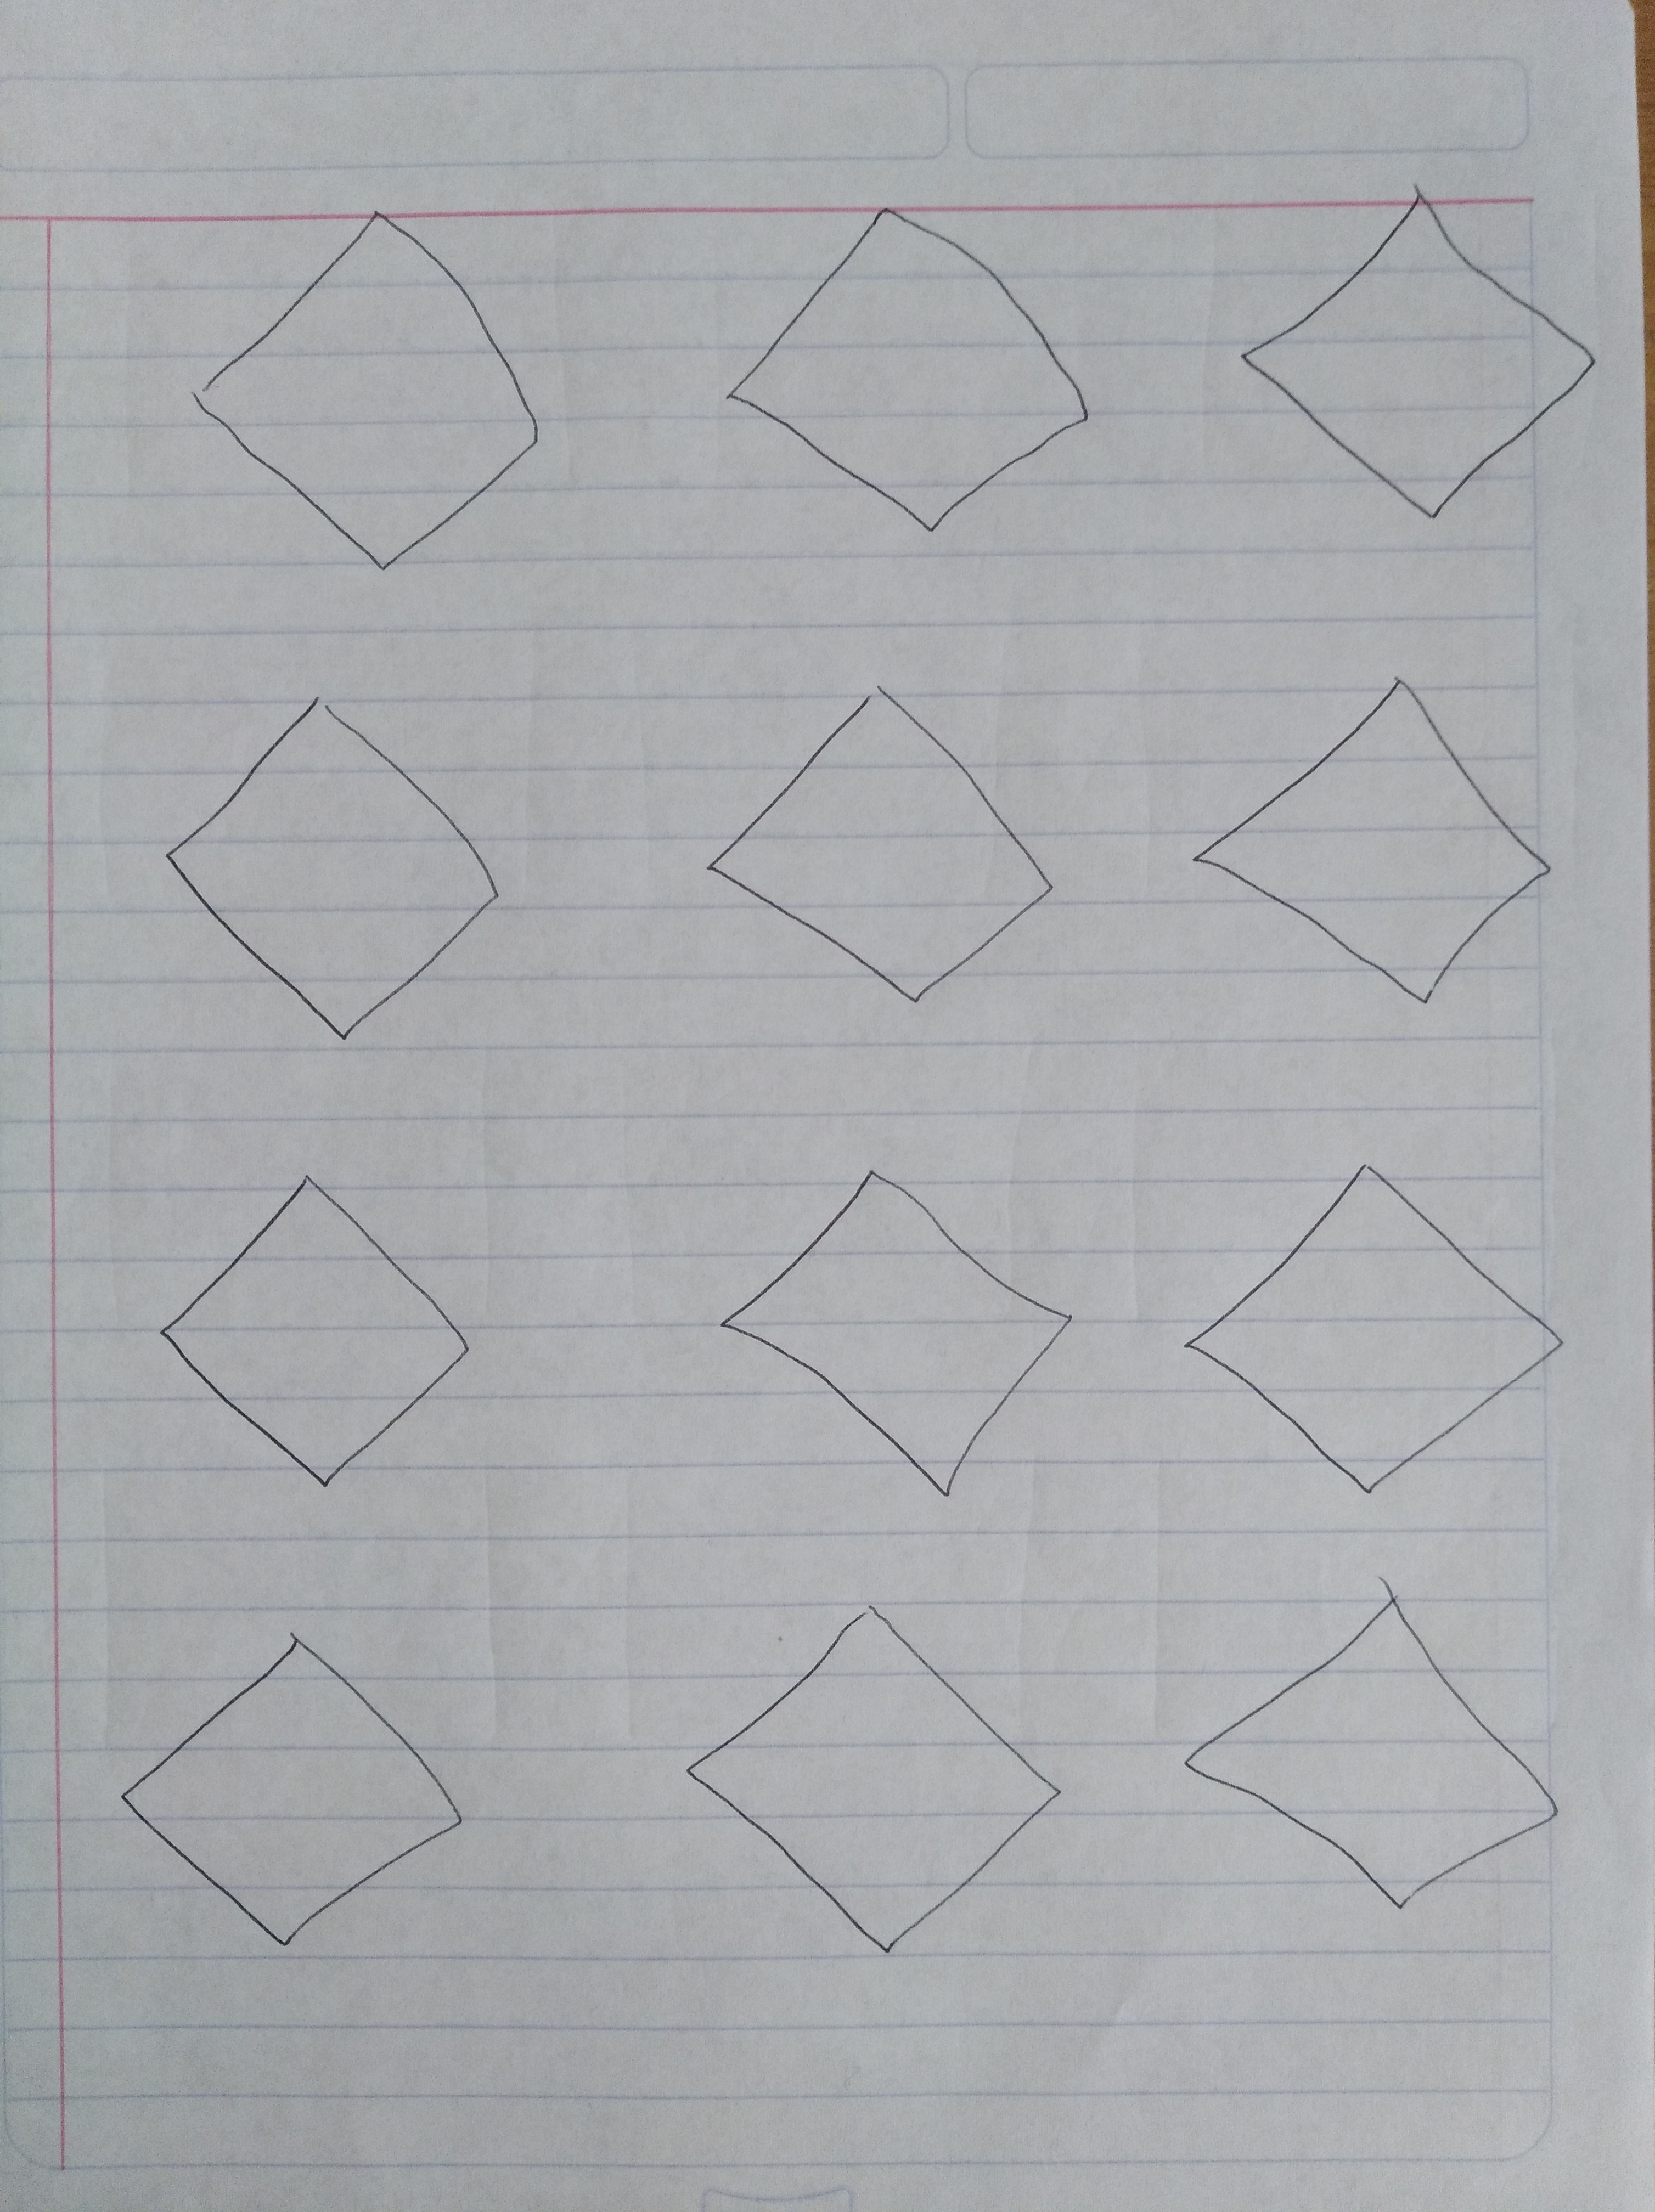decision: (136, 181, 614, 594), (640, 1580, 1127, 1974), (106, 674, 551, 1065), (678, 1140, 1121, 1527), (1165, 1126, 1594, 1513), (1158, 650, 1598, 1027), (1161, 1555, 1580, 1946), (699, 177, 1107, 575), (85, 1606, 523, 1974), (106, 1143, 527, 1510), (675, 664, 1097, 1027), (1217, 167, 1620, 540)
